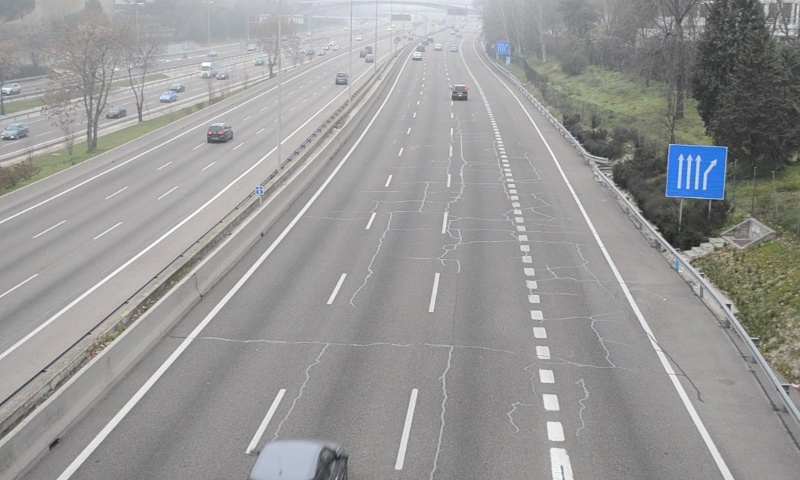car: (451, 84, 469, 101)
